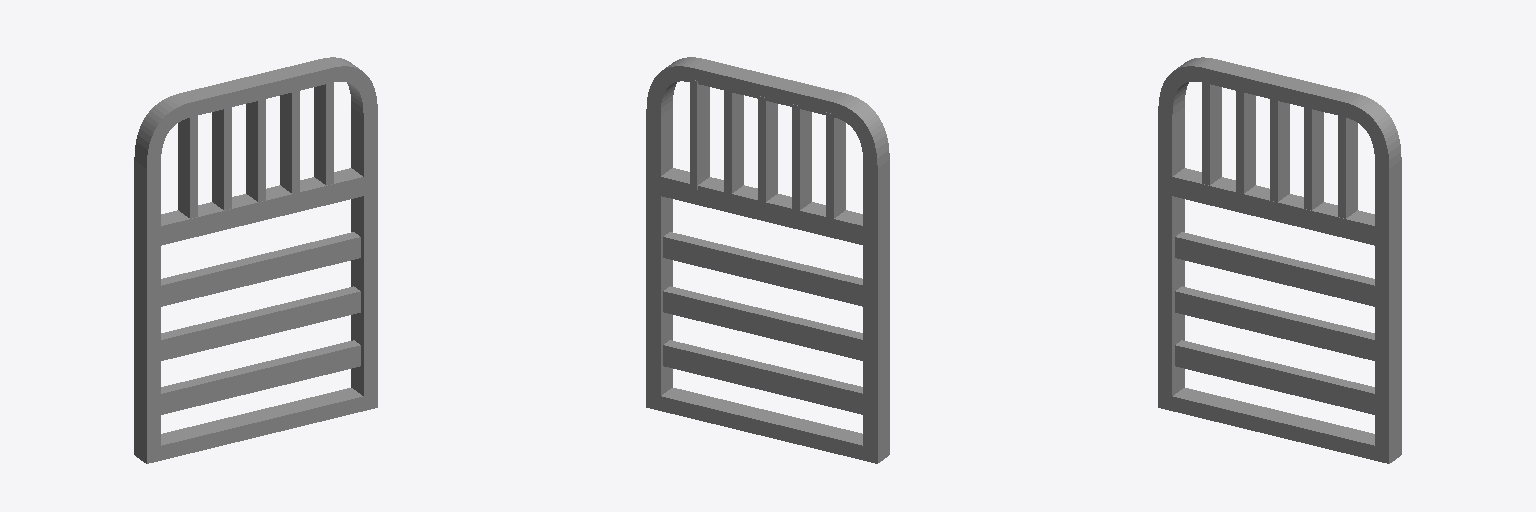
The model's file is stapler_gabel_halter.obj.
3 views of the same model, side by side, from view 1: azimuth 30°, elevation 25°; view 2: azimuth 150°, elevation 25°; view 3: azimuth 330°, elevation 25° (orthographic).
Visible parts, largest first — view 1: Gabel_halter_Cube.13_1; view 2: Gabel_halter_Cube.13_1; view 3: Gabel_halter_Cube.13_1.
Part boxes in pixels (x1,y1,x2,y2): Gabel_halter_Cube.13_1: (134, 57, 377, 463); Gabel_halter_Cube.13_1: (646, 57, 889, 463); Gabel_halter_Cube.13_1: (1158, 57, 1401, 463).
Size of the model in its own units: 4.29 by 6.22 by 0.3964.